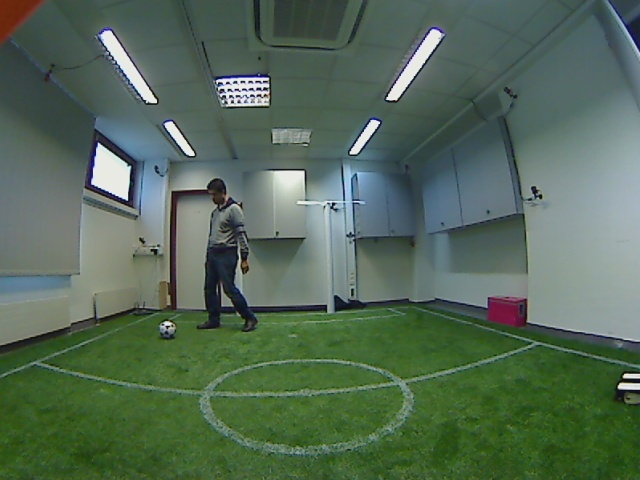ball: (154, 316, 180, 343)
